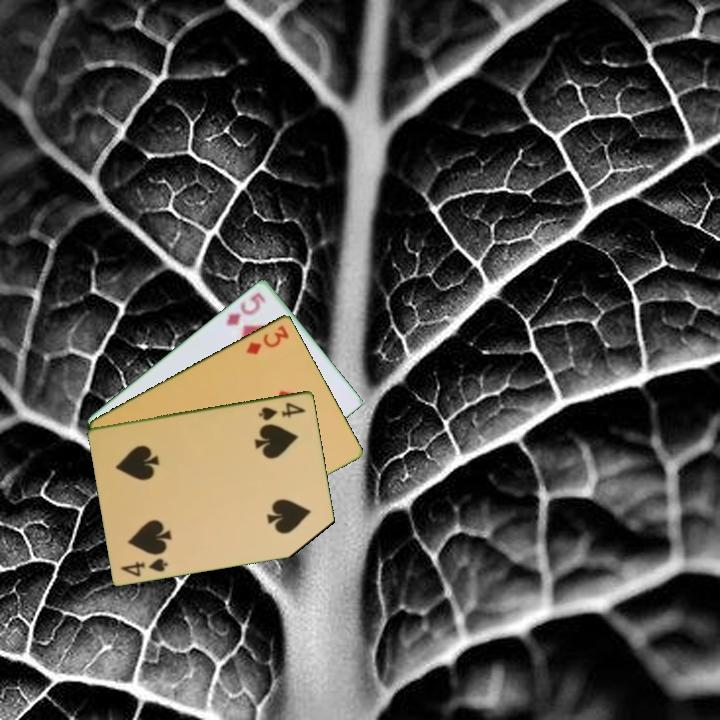3d: (243, 321, 292, 357)
4s: (255, 398, 309, 423), (117, 554, 171, 579)
5d: (222, 289, 269, 329)
